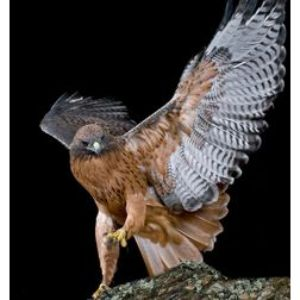hawk: (39, 1, 291, 298)
